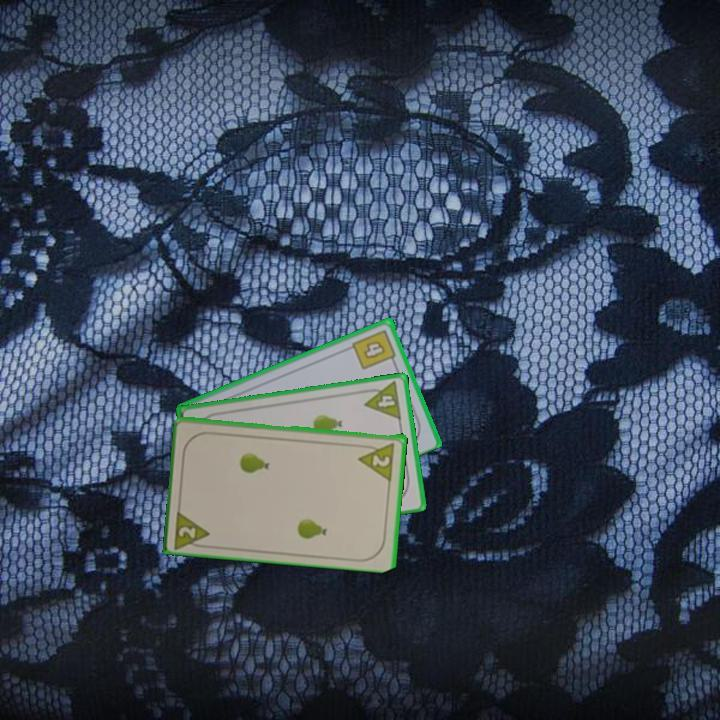2p: (171, 505, 213, 550), (369, 450, 393, 469)
4b: (349, 326, 399, 372)
4p: (359, 378, 404, 422)
